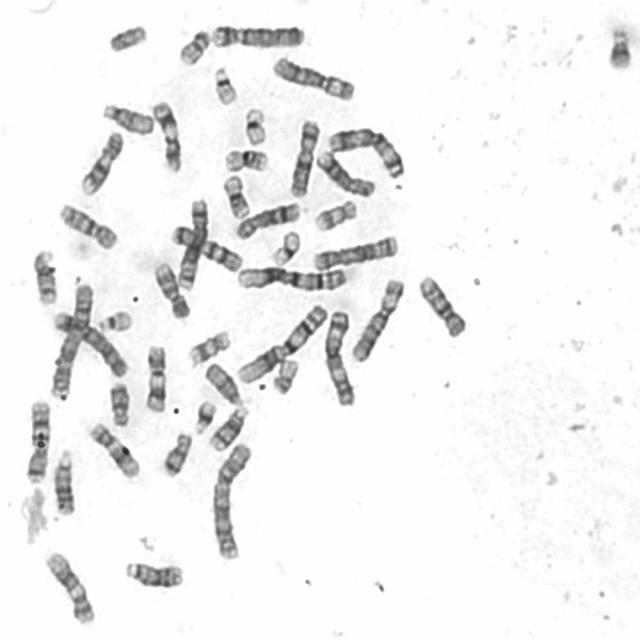A1: (232, 299, 329, 386), (232, 260, 350, 294)
A2: (45, 278, 95, 400), (207, 437, 255, 562)
A3: (322, 123, 407, 180), (320, 304, 358, 407)
B4: (47, 306, 130, 380), (207, 18, 307, 50)
B5: (308, 230, 400, 272), (172, 192, 210, 292)
C10: (414, 269, 468, 339), (54, 198, 120, 252)
C11: (148, 96, 184, 174), (140, 340, 168, 414)
C12: (40, 545, 97, 627), (84, 417, 142, 480)
C6: (347, 273, 406, 363), (269, 52, 357, 102)
C7: (167, 220, 244, 274), (21, 395, 52, 485)
C8: (312, 146, 378, 198), (231, 198, 302, 242)
C9: (76, 126, 125, 197), (148, 256, 191, 320)
D13: (120, 555, 186, 591), (48, 444, 76, 516)
D14: (204, 400, 251, 452), (28, 243, 60, 307)
D15: (200, 357, 245, 408), (98, 97, 156, 136)
E16: (218, 170, 252, 220), (220, 144, 270, 174)
E17: (184, 324, 232, 368), (310, 195, 359, 233)
E18: (156, 427, 194, 479), (104, 377, 132, 428)
F19: (267, 226, 302, 267), (240, 102, 269, 148)
F20: (175, 24, 212, 66), (268, 353, 300, 396)
G21: (603, 20, 634, 72), (188, 394, 218, 435)
G22: (209, 61, 239, 107), (92, 304, 134, 334)
X: (284, 114, 322, 198)
Y: (104, 18, 149, 54)
